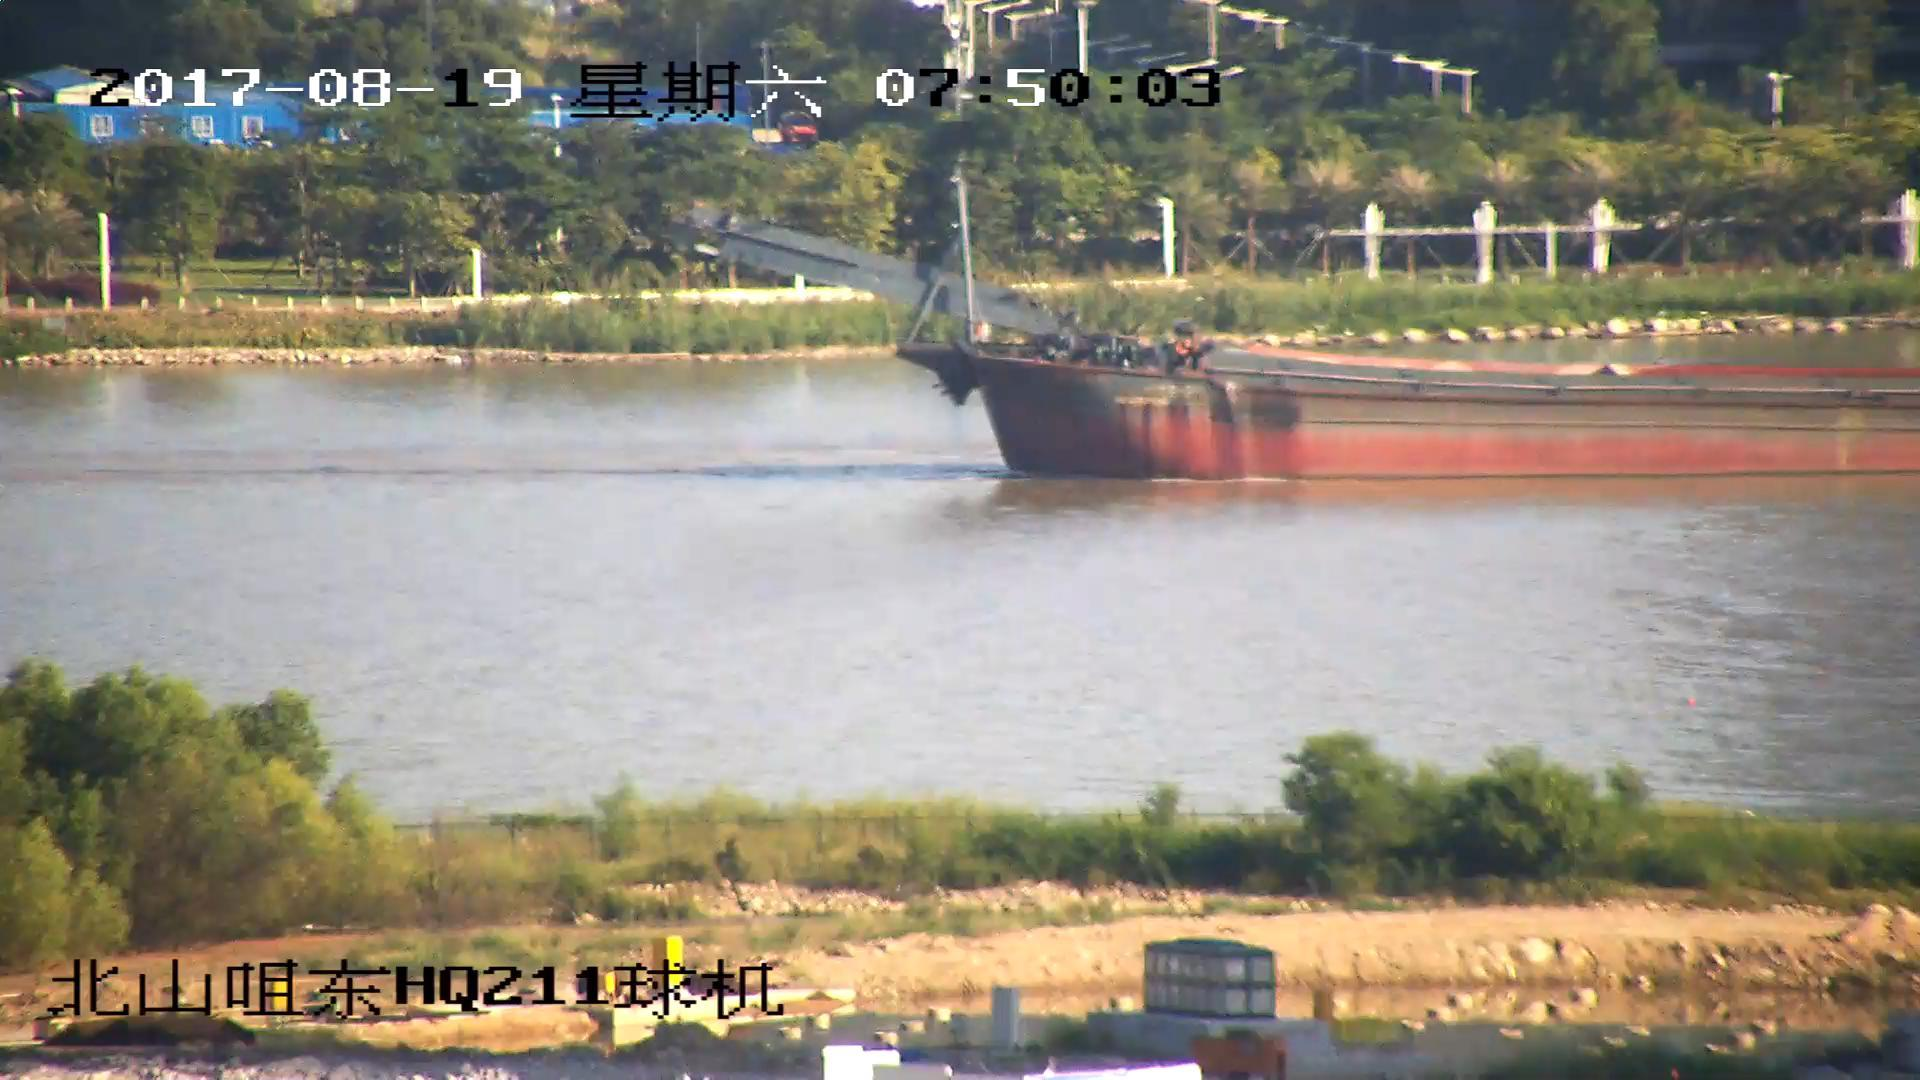Ship: (688, 175, 1920, 480)
